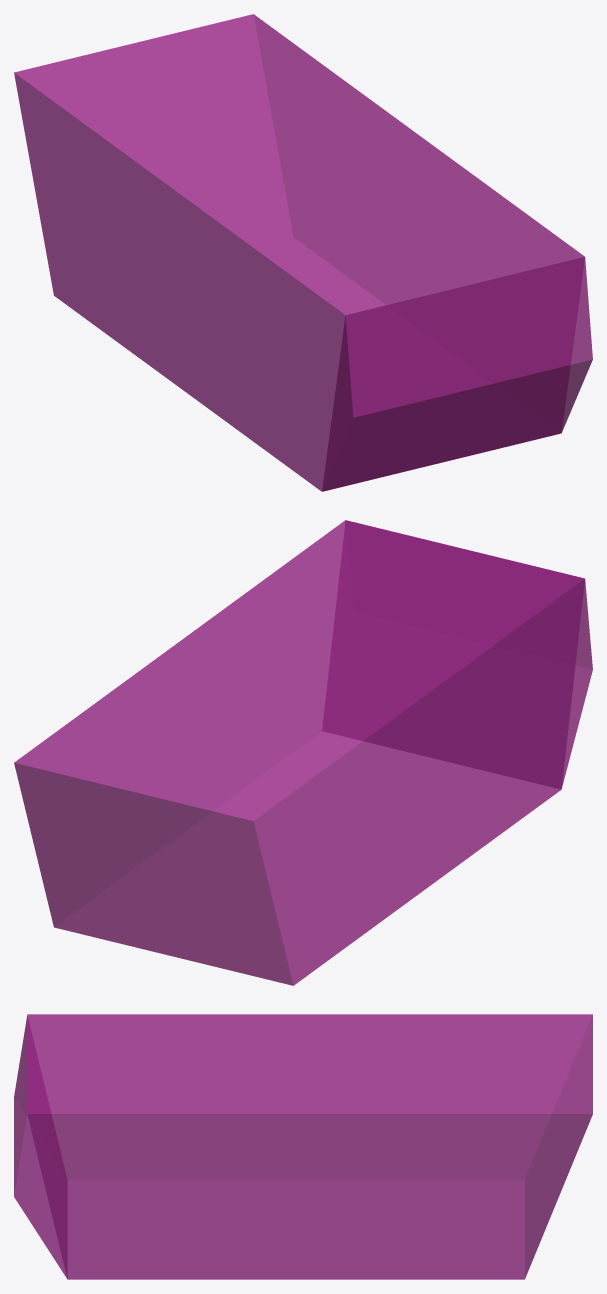
File: SM_Veh_Quad_Bike_01_Collision.fbx
3 views of the same model, one above another, from view 1: azimuth 30°, elevation 25°; view 2: azimuth 150°, elevation 25°; view 3: azimuth 270°, elevation 25° (orthographic). The views are drawn at different scales.
Parts seen in each view (by area): view 1: SM_Veh_Quad_Bike_01_Collision; view 2: SM_Veh_Quad_Bike_01_Collision; view 3: SM_Veh_Quad_Bike_01_Collision.
Boxes of the visible parts, <box> form: SM_Veh_Quad_Bike_01_Collision: <box>14,14,592,491</box>; SM_Veh_Quad_Bike_01_Collision: <box>14,520,592,985</box>; SM_Veh_Quad_Bike_01_Collision: <box>14,1014,592,1279</box>.
Bounding box in the file's own units: 92 × 71.15 × 226.
